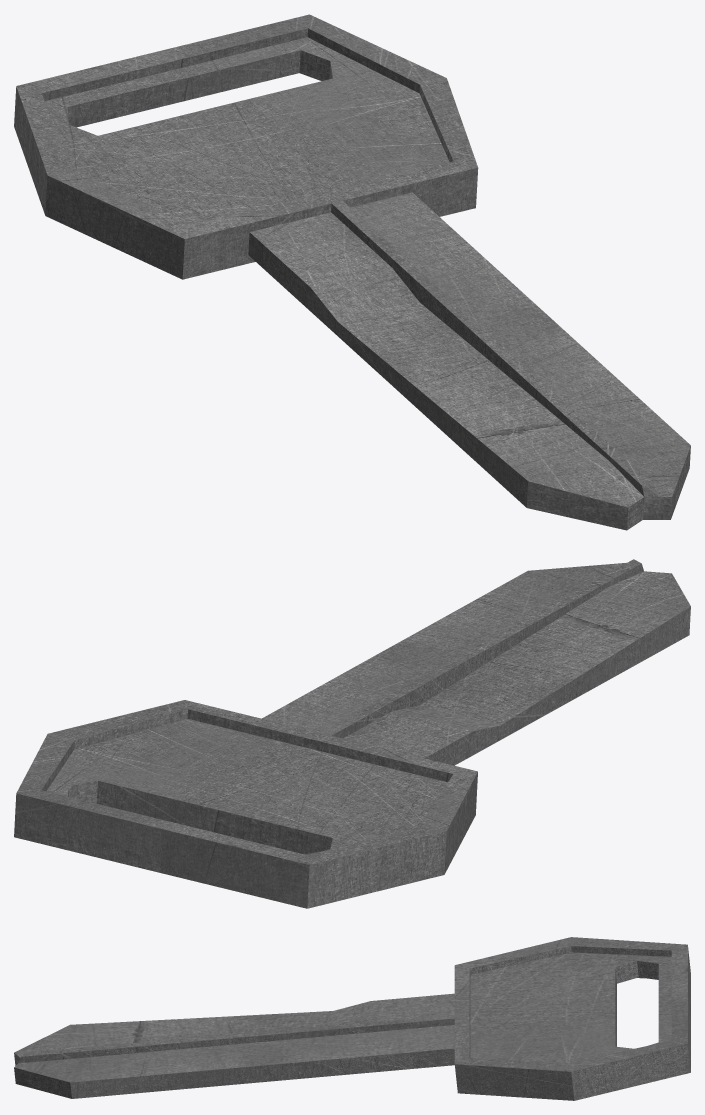
Rendered from key3.fbx.
3 renders of one model, top to bottom at view 1: azimuth 30°, elevation 25°; view 2: azimuth 150°, elevation 25°; view 3: azimuth 270°, elevation 25°, orthographic. The views are drawn at different scales.
Visible parts, largest first — view 1: Key 3; view 2: Key 3; view 3: Key 3.
Part boxes in pixels (box(x1,y1,x2,y2)): Key 3: box(14, 14, 690, 530); Key 3: box(14, 559, 690, 908); Key 3: box(14, 937, 690, 1100).
Size of the model in its own units: 4.77 by 1.36 by 10.12.
